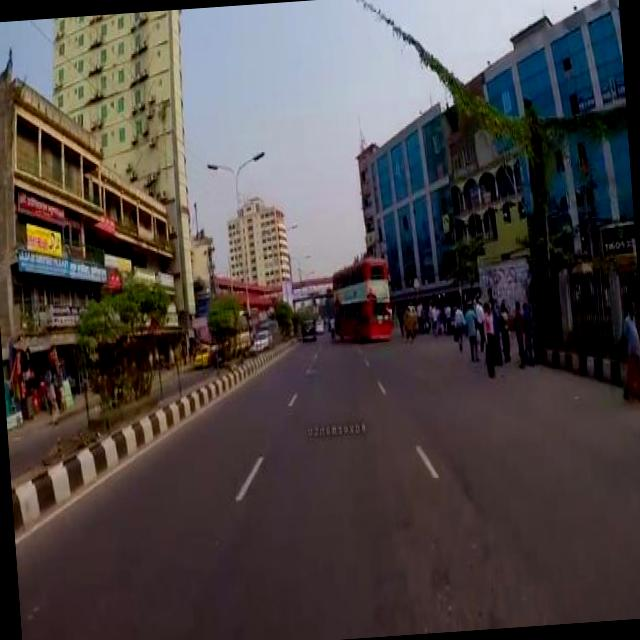bus: (330, 252, 396, 338)
car: (254, 324, 274, 342), (194, 341, 210, 362)
